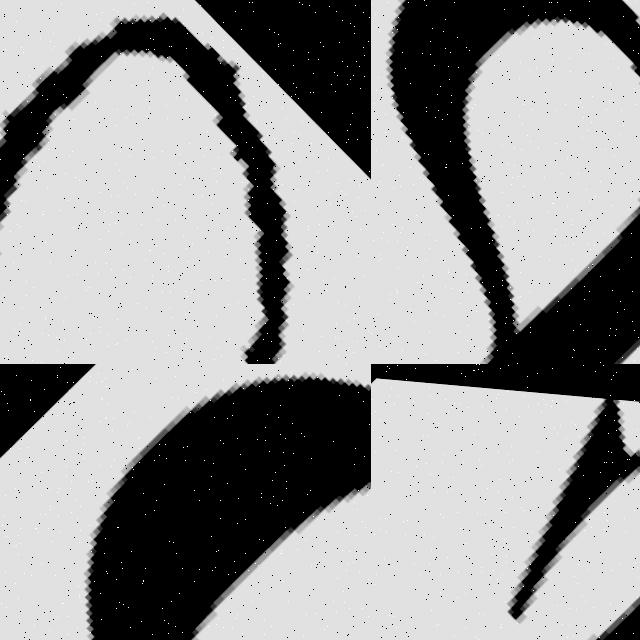A: (371, 0, 640, 364)
O: (0, 9, 293, 364), (80, 365, 371, 640)
S: (371, 364, 640, 640)
